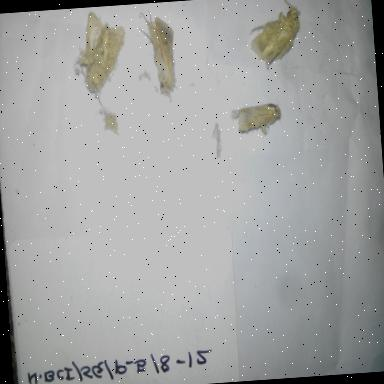abw: (71, 6, 133, 109), (132, 4, 184, 107), (243, 0, 306, 77), (226, 97, 286, 143)
